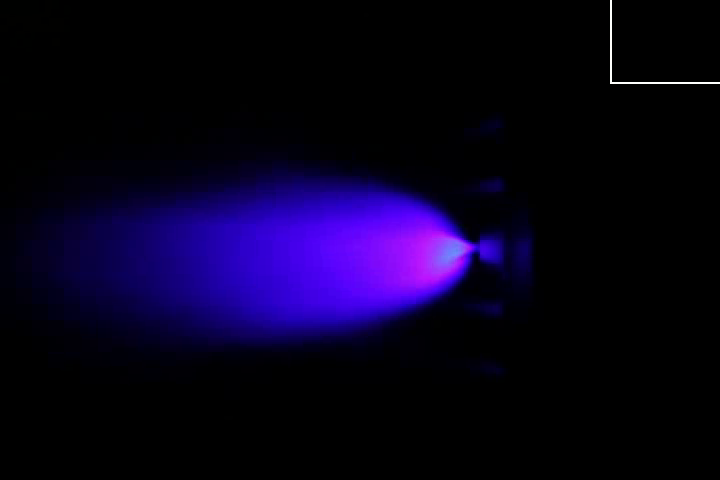burner cap: (477, 235, 502, 264)
stable: (381, 204, 477, 294)
